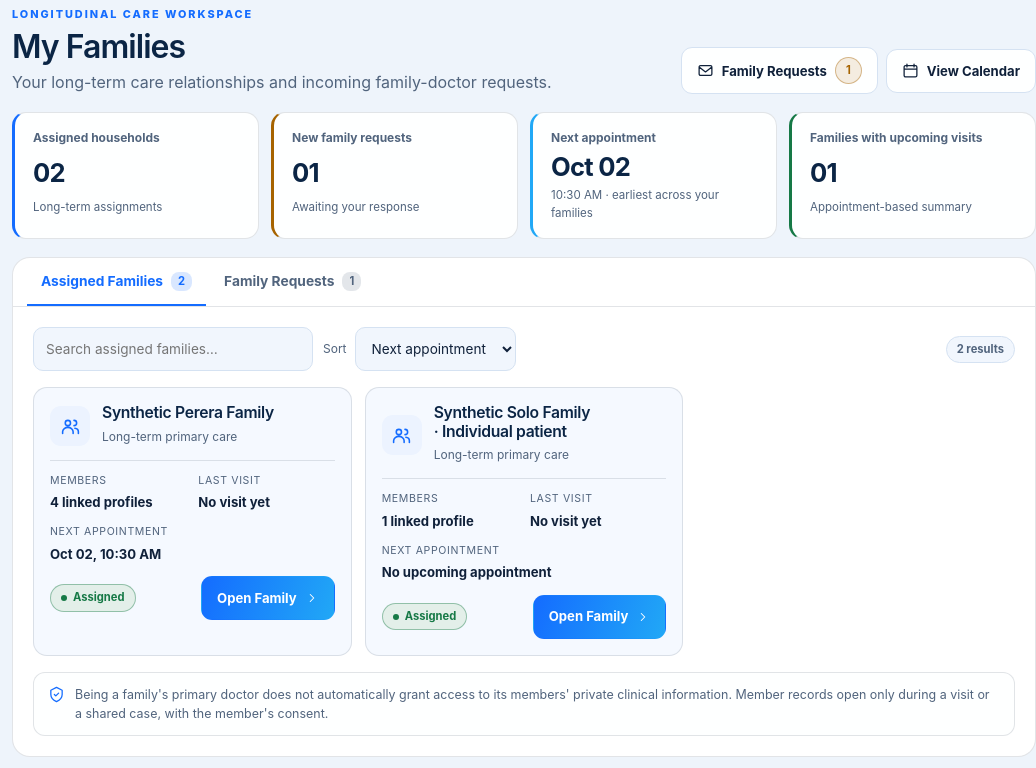
Test: DoctorFamiliesPage › searches assigned families by name
In the search field labelled "Search assigned families": (173,349) 33,327 -> 313,371, type "solo"
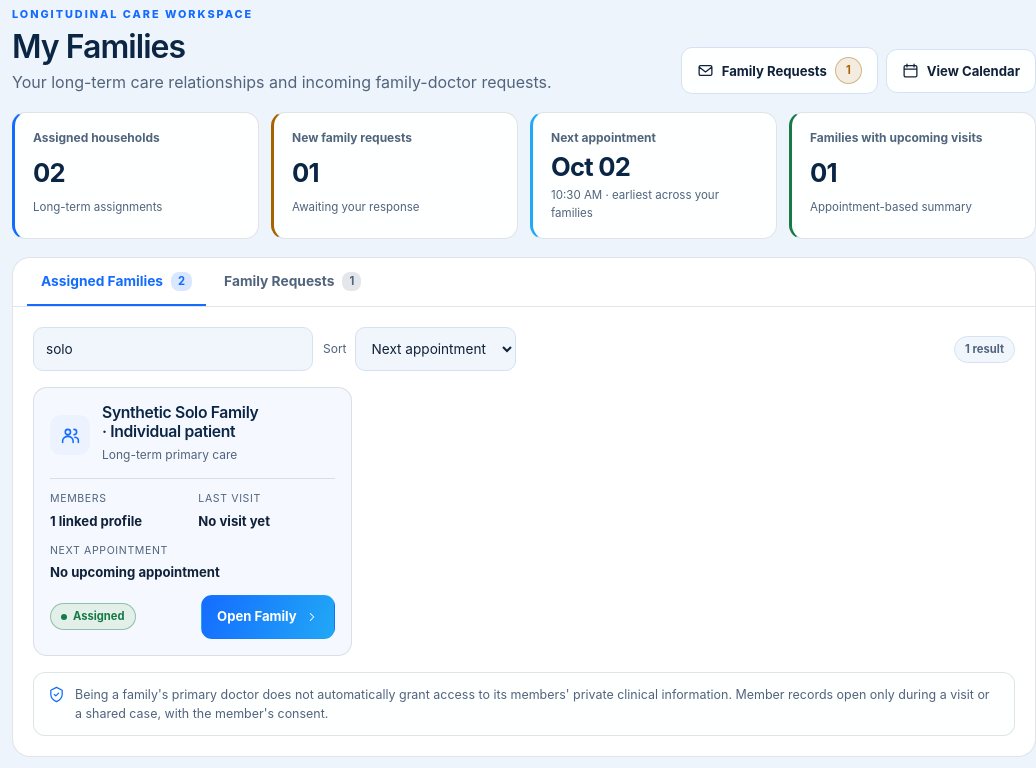
Expected: the heading "Synthetic Solo Family · Individual patient" is shown, 102,403 -> 258,441
Expected: the heading "Synthetic Perera Family" is gone
